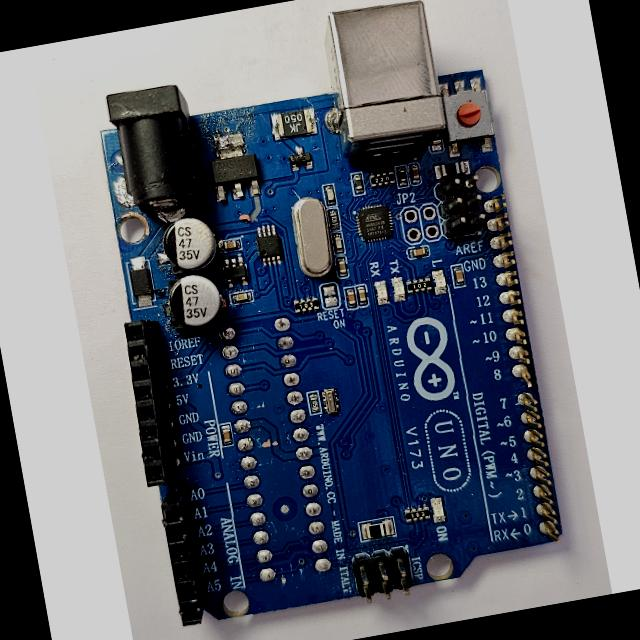missing_atmega: (220, 307, 337, 597)
missing_digital_pins: (483, 174, 570, 550)
